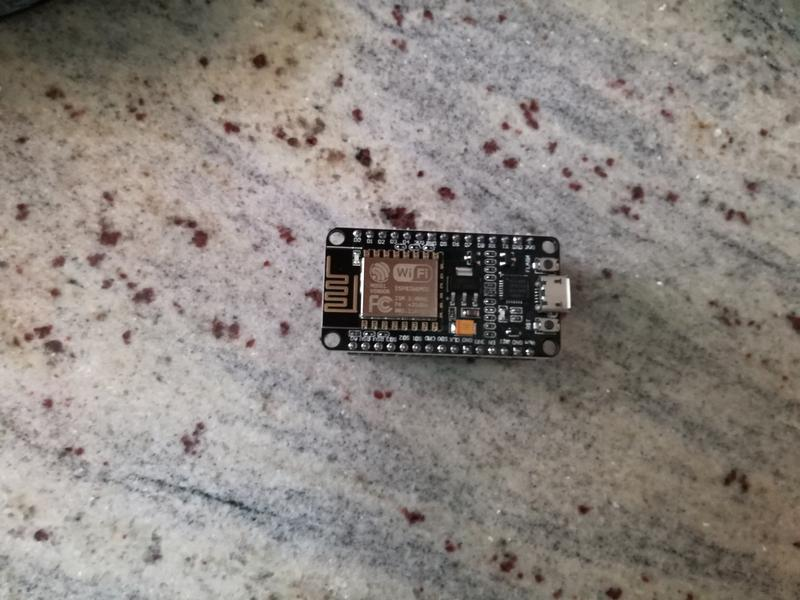ESP8266: (316, 222, 576, 368)
